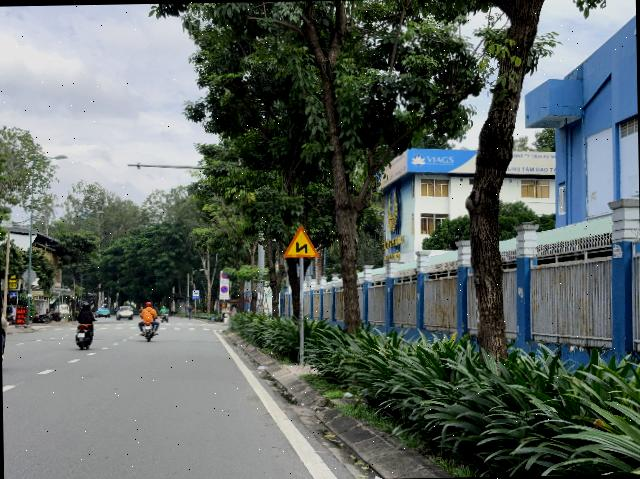nhieu-cho-ngoat-nguy-hiem-lien-tiep: (283, 224, 319, 257)
